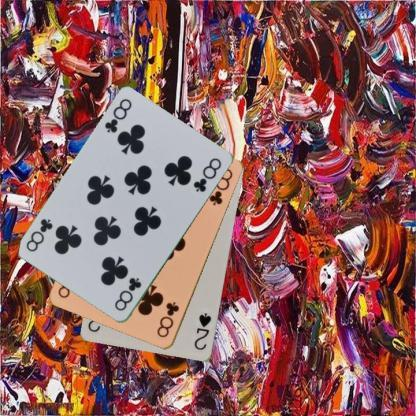2s: (192, 310, 212, 352)
8c: (102, 96, 134, 135), (112, 275, 143, 313), (154, 299, 180, 339)
